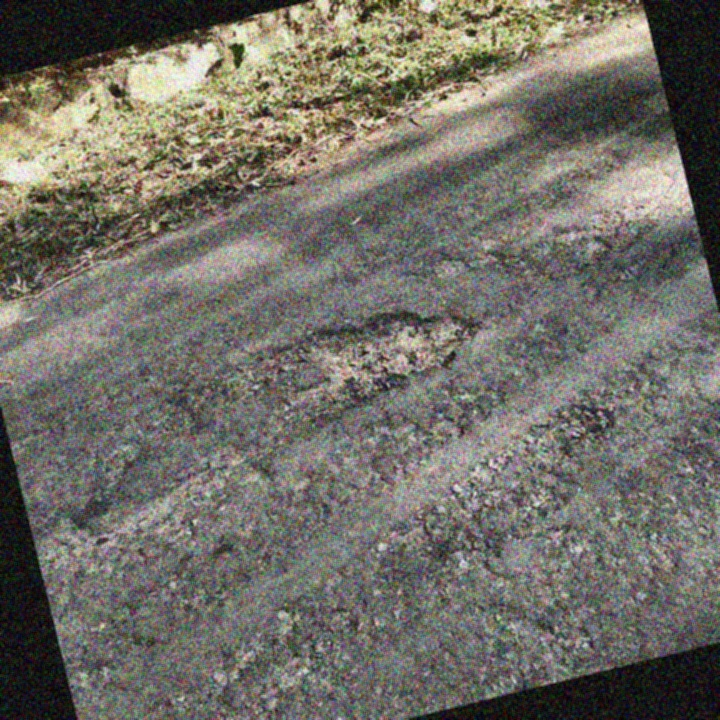pothole: (187, 285, 496, 449), (527, 393, 624, 466)
